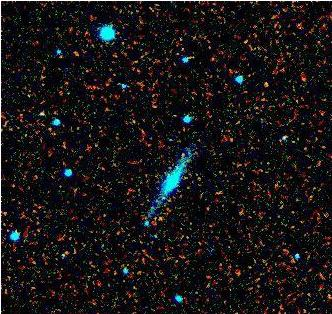star: (145, 204, 175, 234)
